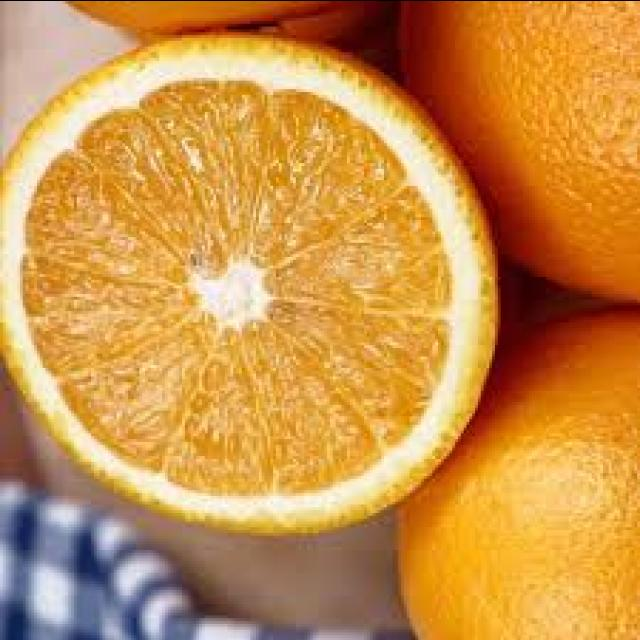orange: (2, 30, 488, 520)
